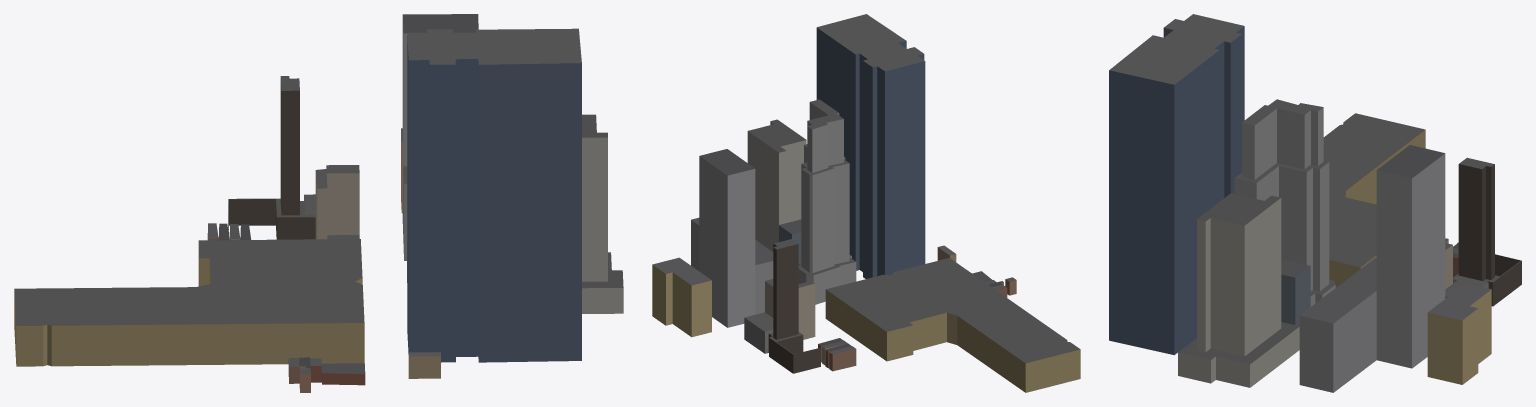
File: -2_-1.far.glb
3 views of the same model, side by side, from view 1: azimuth 30°, elevation 25°; view 2: azimuth 150°, elevation 25°; view 3: azimuth 270°, elevation 25° (orthographic). The views are drawn at different scales.
Visible parts, largest first — view 1: -2_-1_far; view 2: -2_-1_far; view 3: -2_-1_far.
Part boxes in pixels (x1=…): -2_-1_far: x1=14, y1=14, x2=623, y2=392; -2_-1_far: x1=652, y1=14, x2=1080, y2=392; -2_-1_far: x1=1109, y1=14, x2=1521, y2=392.
Bounding box in the file's own units: 443 × 230 × 318.
